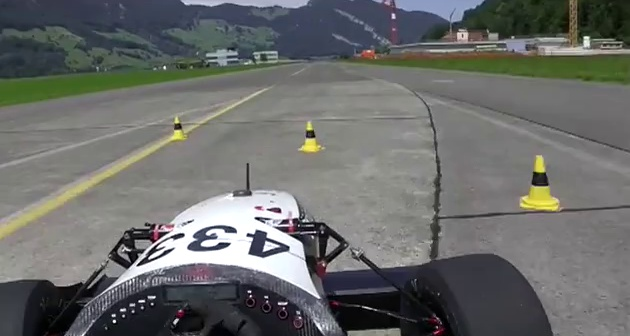Cone: (519, 154, 562, 210), (297, 119, 326, 155), (169, 114, 189, 142)
